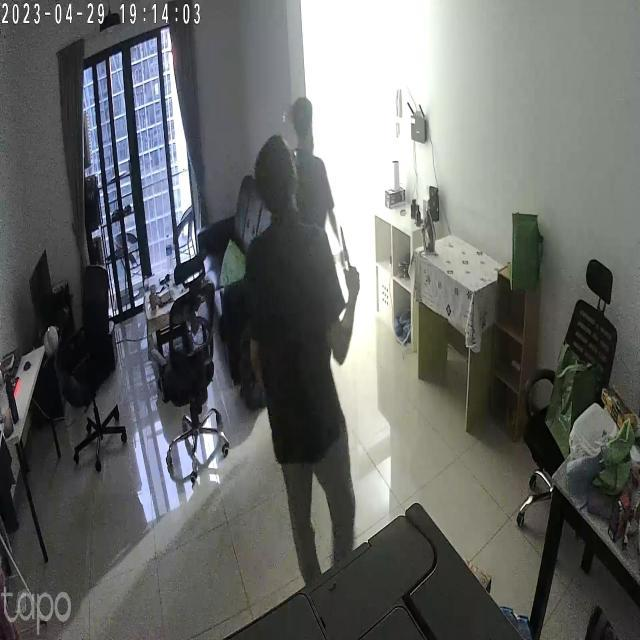Knife: (330, 220, 369, 292)
